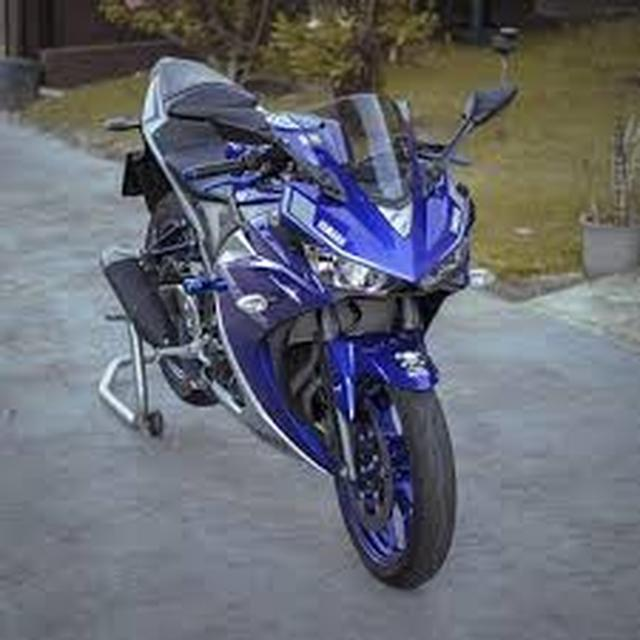motorcycle: (99, 51, 524, 593)
